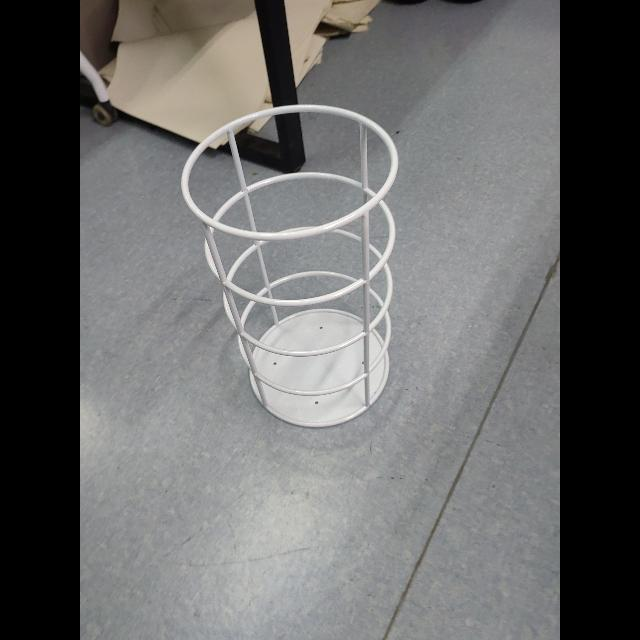S: (180, 100, 406, 433)
